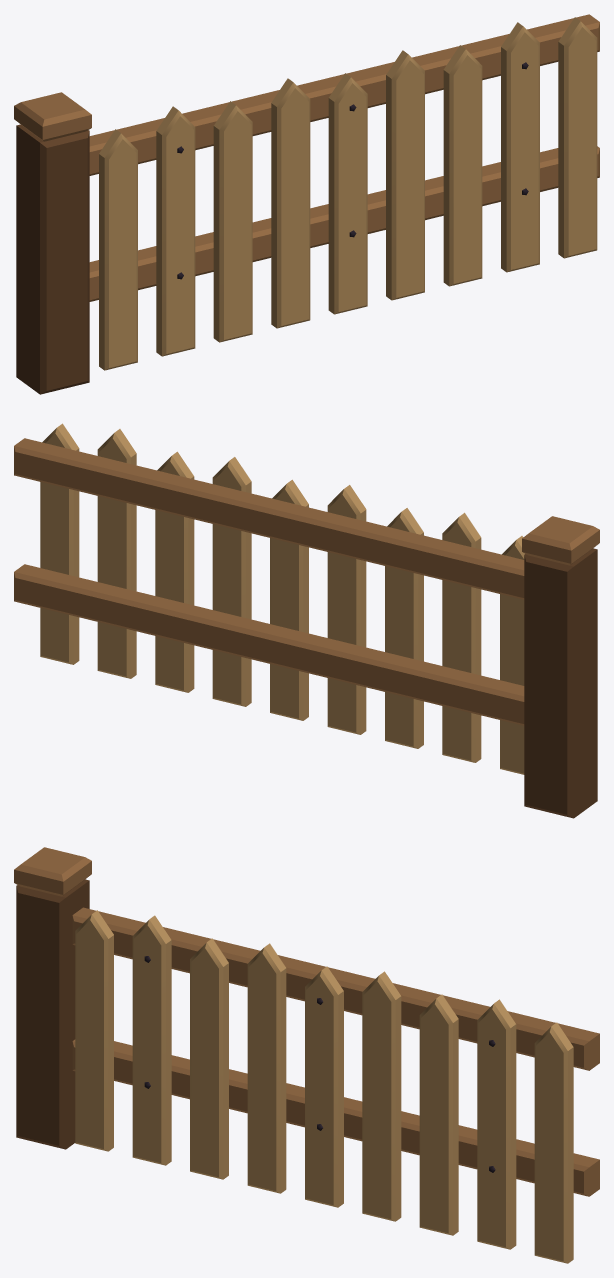
The model's file is Fence_01.glb.
3 renders of one model, top to bottom at view 1: azimuth 30°, elevation 25°; view 2: azimuth 150°, elevation 25°; view 3: azimuth 330°, elevation 25°, orthographic.
Parts seen in each view (by area): view 1: Fence_01; view 2: Fence_01; view 3: Fence_01.
Boxes of the visible parts, x1,y1,x2,y2 form: Fence_01: (14, 14, 599, 394); Fence_01: (14, 423, 599, 818); Fence_01: (14, 847, 599, 1263).
Bounding box in the file's own units: 8 × 3.7 × 0.7788.
